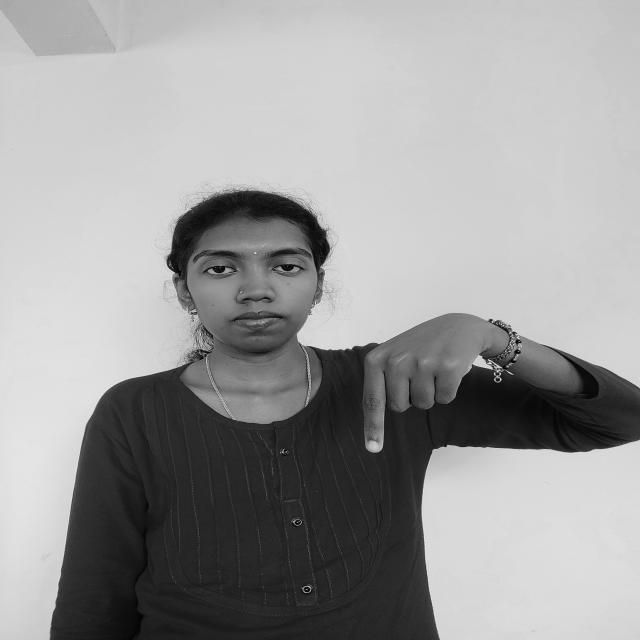Now: (352, 304, 498, 458)
